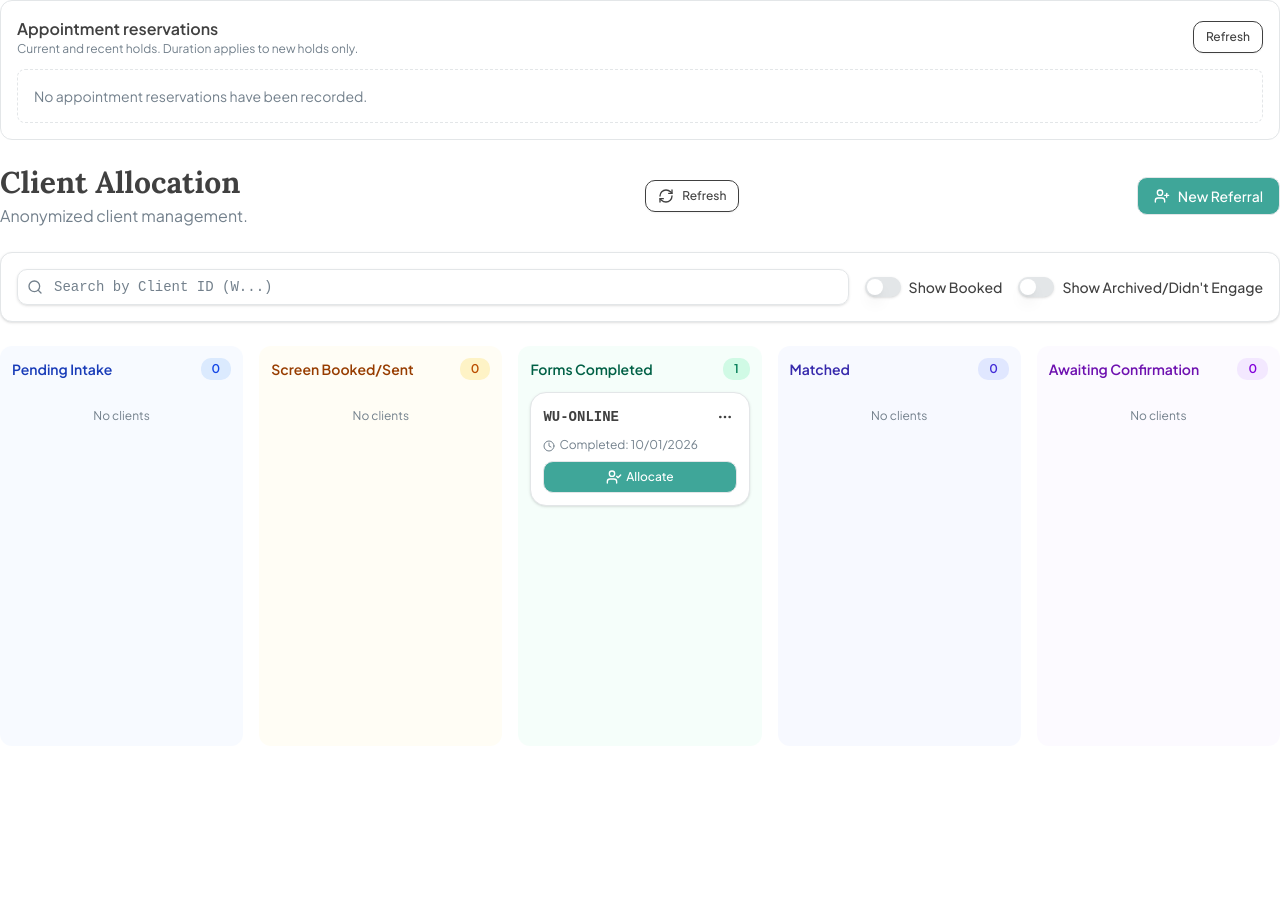
Test case: Clients page compact board integration › sends a CY&A at-practice option online without changing the client's submitted preference
The image size is (1280, 900).
Later steps or results of the test are not shown.
Click the 4th button at (725, 417), box [713,405,737,429]
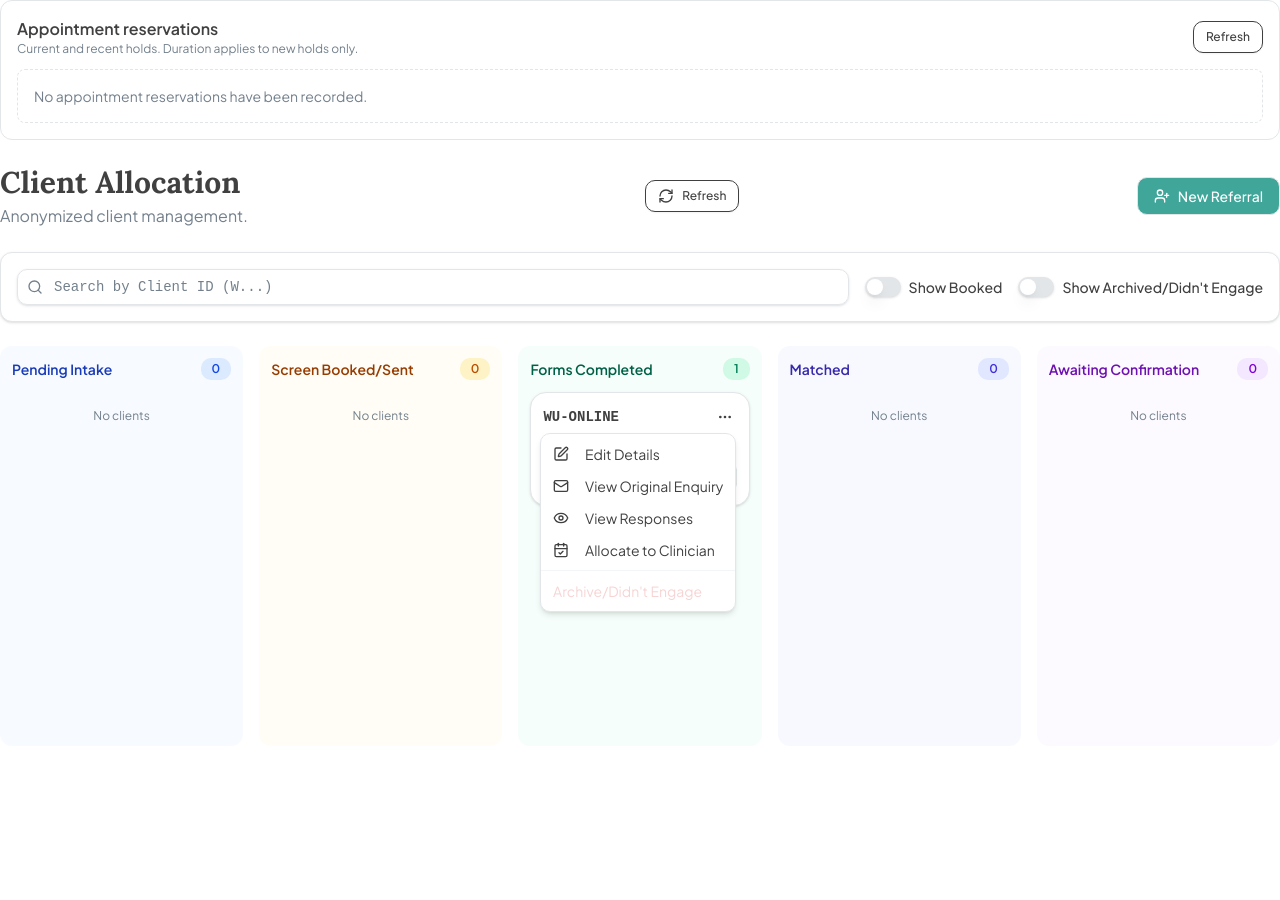
Click the menu item "Allocate to Clinician" at (634, 550), box [553,541,715,559]
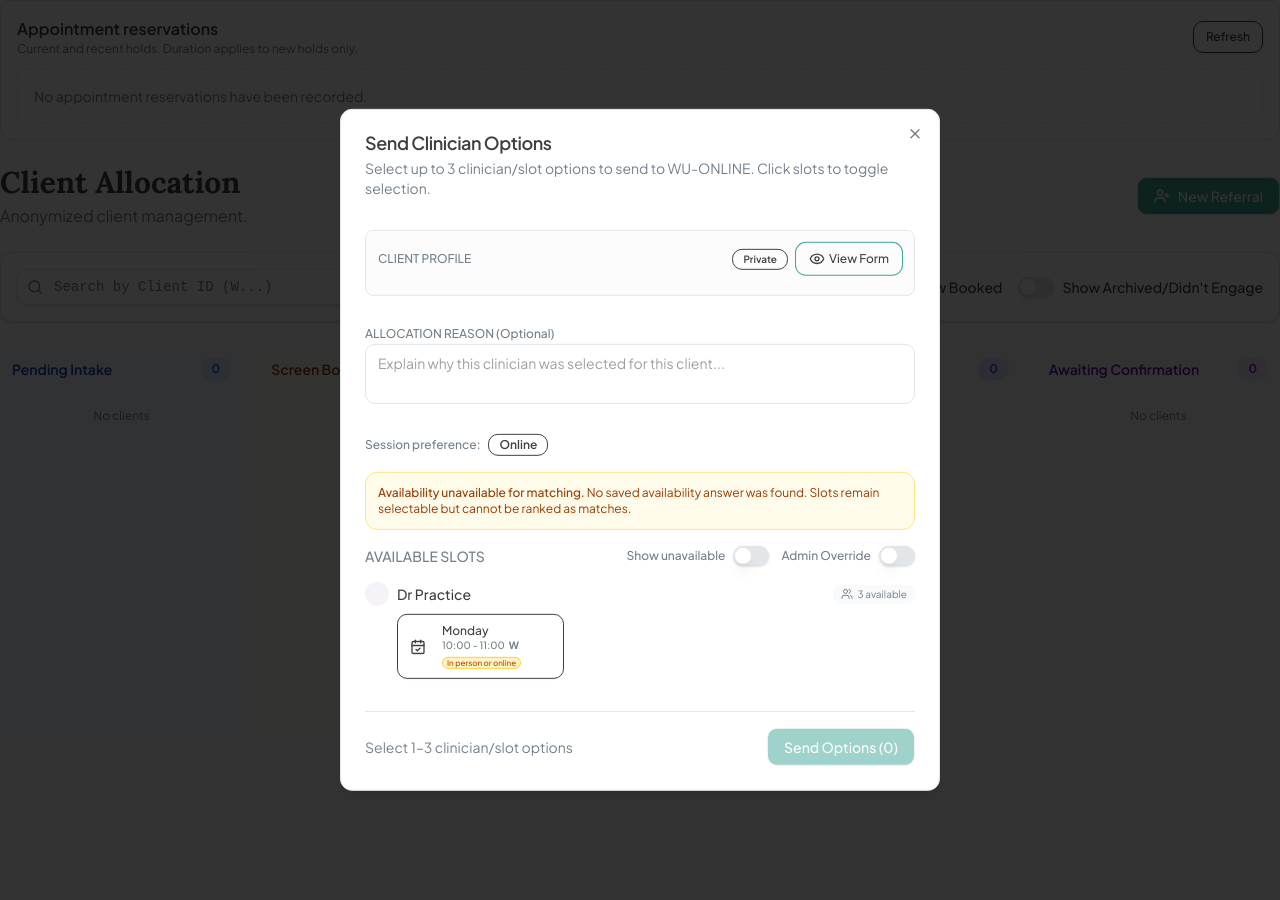
Check: the button "Monday 10:00 - 11:00W In person or online" is enabled
Click the button "Monday 10:00 - 11:00W In person or online" at (481, 646), box [397,614,564,679]
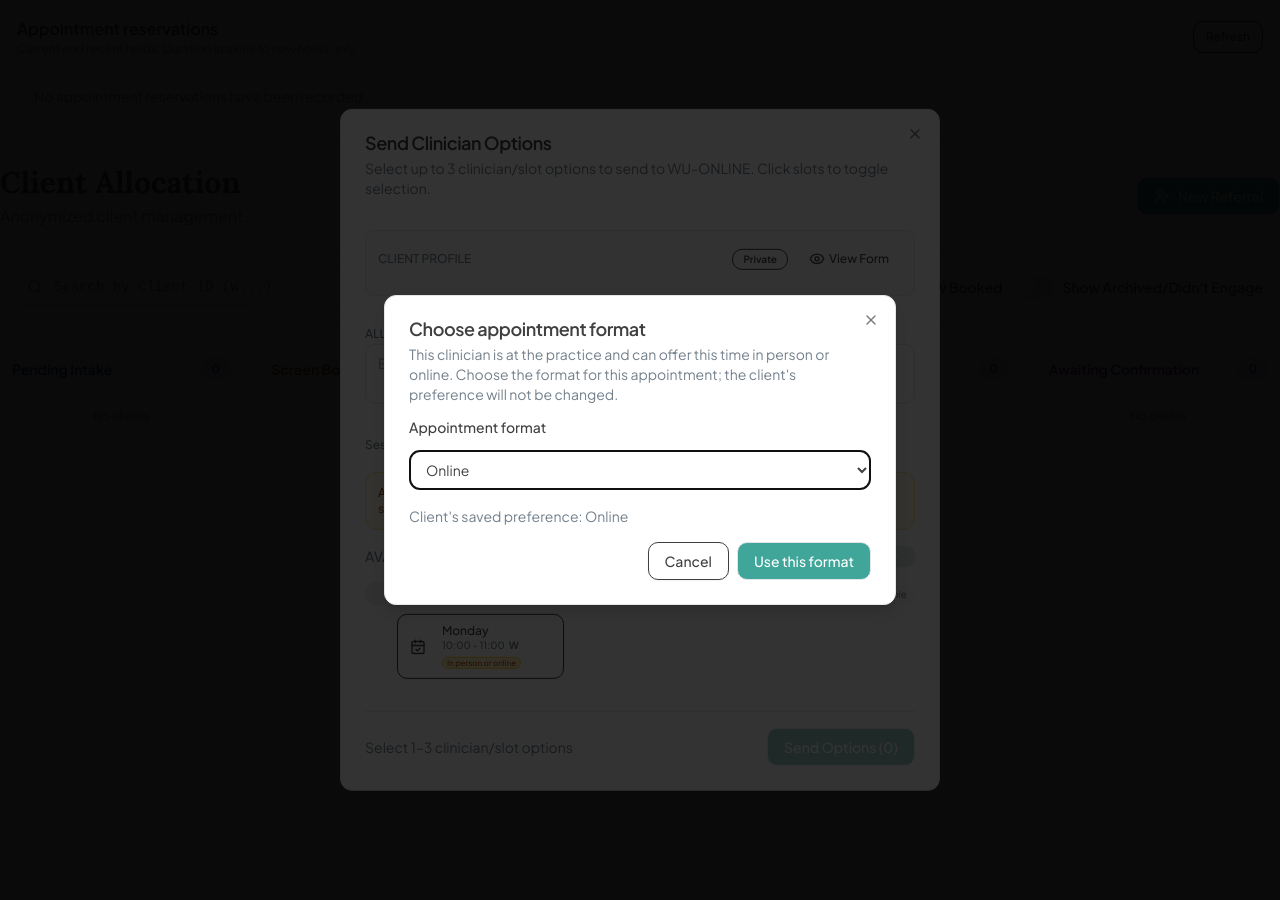
Check: the dropdown labelled "Appointment format" shows "Online", box [409,450,871,490]
